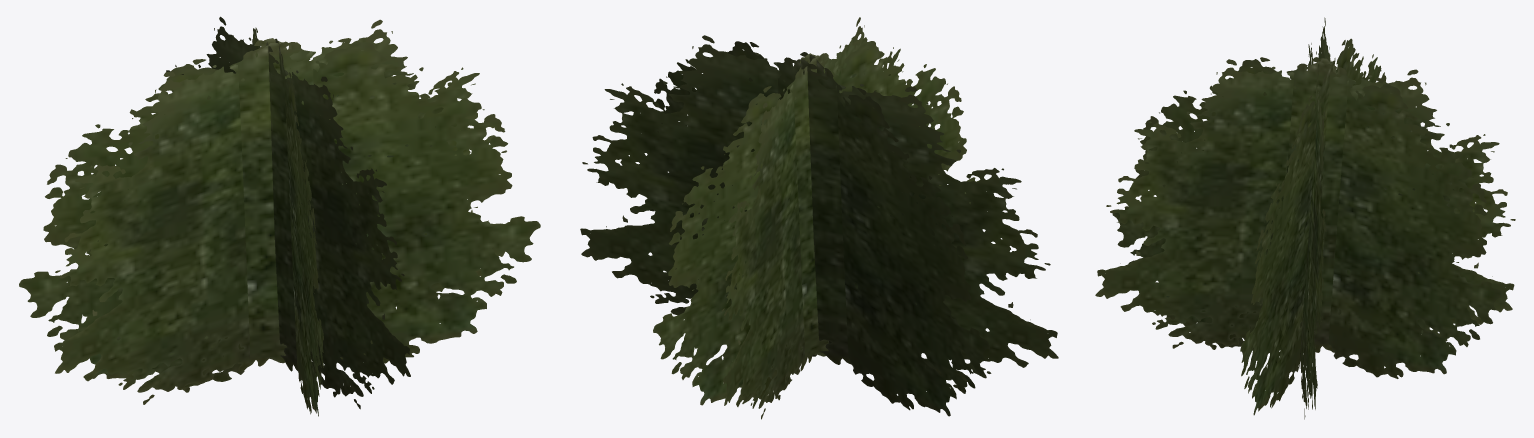
The model's file is Background_Tree_Atlas_010_alt.glb.
3 renders of one model, left to right at view 1: azimuth 30°, elevation 25°; view 2: azimuth 150°, elevation 25°; view 3: azimuth 270°, elevation 25°, orthographic. The views are drawn at different scales.
Parts seen in each view (by area): view 1: Background_Tree_Atlas.010; view 2: Background_Tree_Atlas.010; view 3: Background_Tree_Atlas.010.
Part boxes in pixels (x1,y1,x2,y2): Background_Tree_Atlas.010: (19, 16, 540, 416); Background_Tree_Atlas.010: (580, 17, 1058, 419); Background_Tree_Atlas.010: (1095, 17, 1515, 419).
Size of the model in its own units: 320 by 224 by 265.
1 material, 1 textured.
